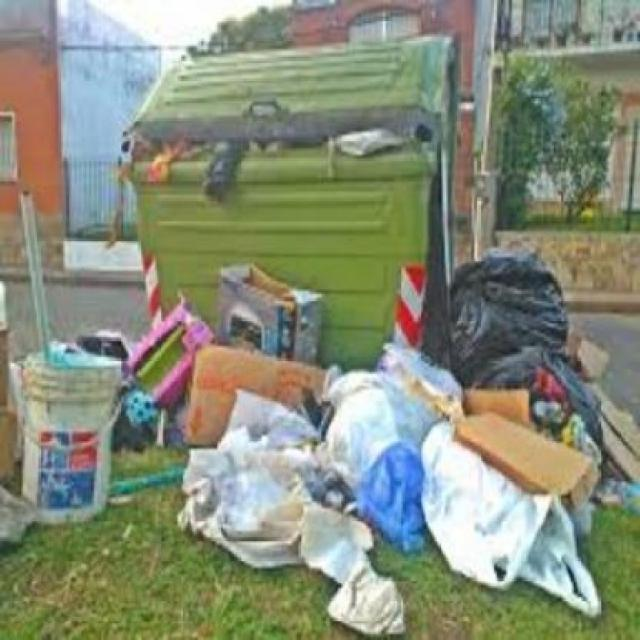garbage: (140, 253, 639, 639), (8, 182, 135, 558), (137, 129, 448, 212)
